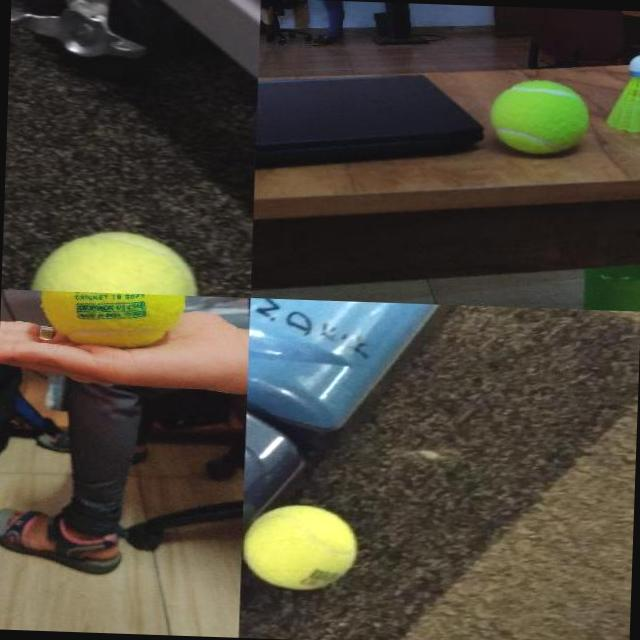tennis-ball: (29, 228, 201, 295), (240, 502, 360, 592), (39, 290, 185, 346), (489, 79, 587, 154)
